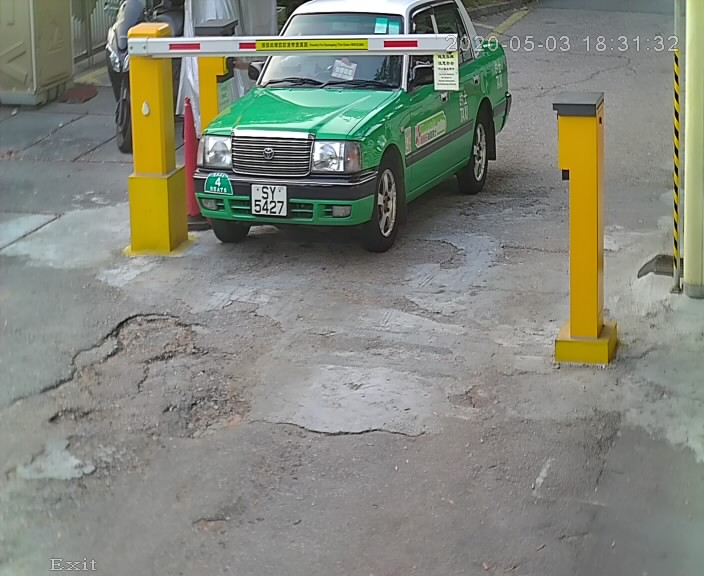taxi: (181, 2, 510, 266)
taxi_mark: (200, 166, 239, 203)
